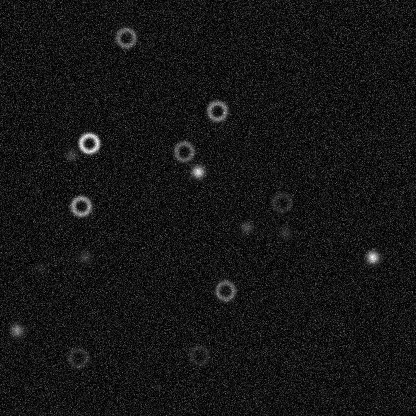Ring: (205, 98, 229, 122), (187, 343, 211, 367), (269, 190, 293, 214), (171, 139, 195, 163), (76, 131, 100, 155), (213, 278, 237, 302), (68, 194, 92, 218), (113, 25, 137, 49), (65, 345, 89, 369)
Spot: (364, 249, 380, 265), (63, 147, 79, 163), (8, 322, 24, 338), (189, 163, 205, 179), (277, 224, 293, 240), (76, 248, 92, 264), (32, 259, 48, 275), (238, 219, 254, 235)
